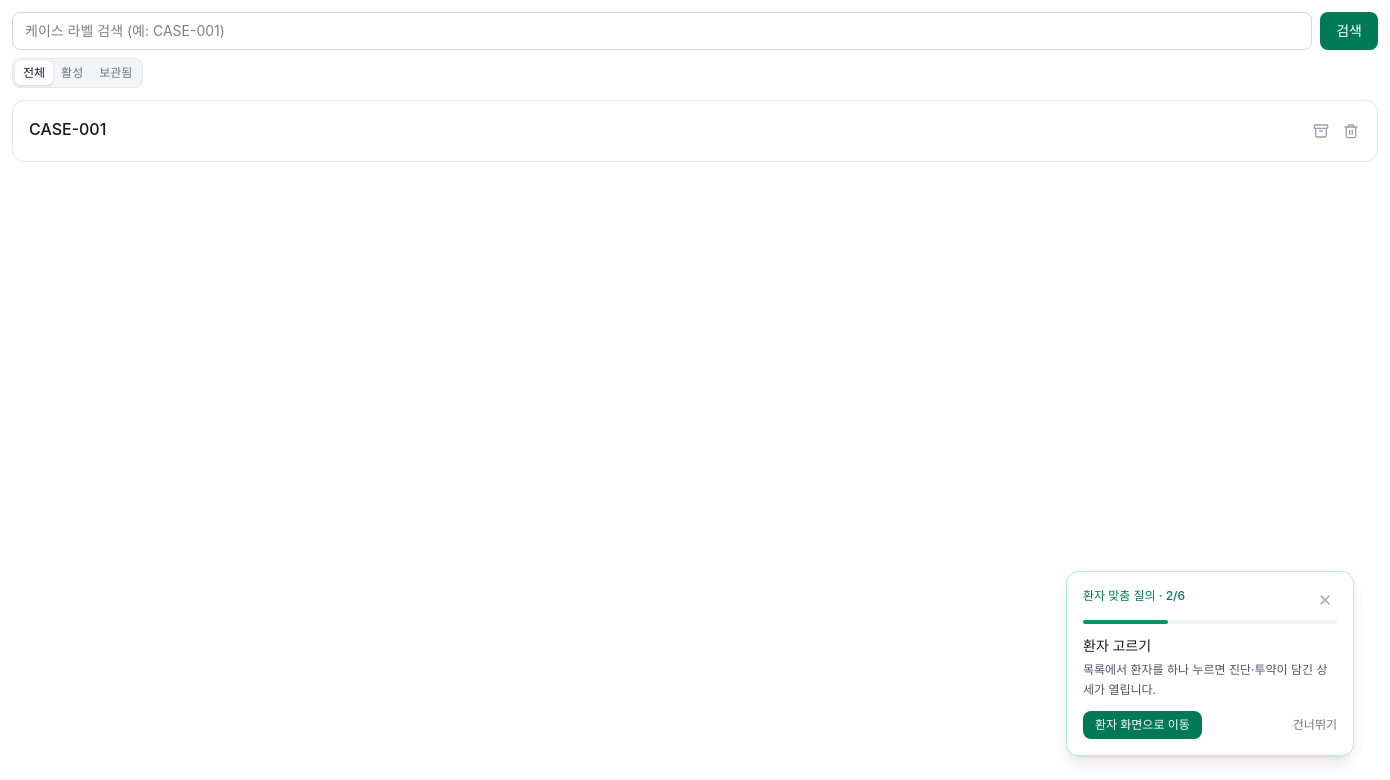
Test: 환자 목록이 환자 맞춤 경로의 단계를 넘긴다 › 환자를 고르면 맞춤 대화 시작 단계로 넘어간다
This screenshot has width=1390, height=780.
Click the button "CASE-001" at (68, 129), box x1=13 y1=101 x2=1307 y2=161
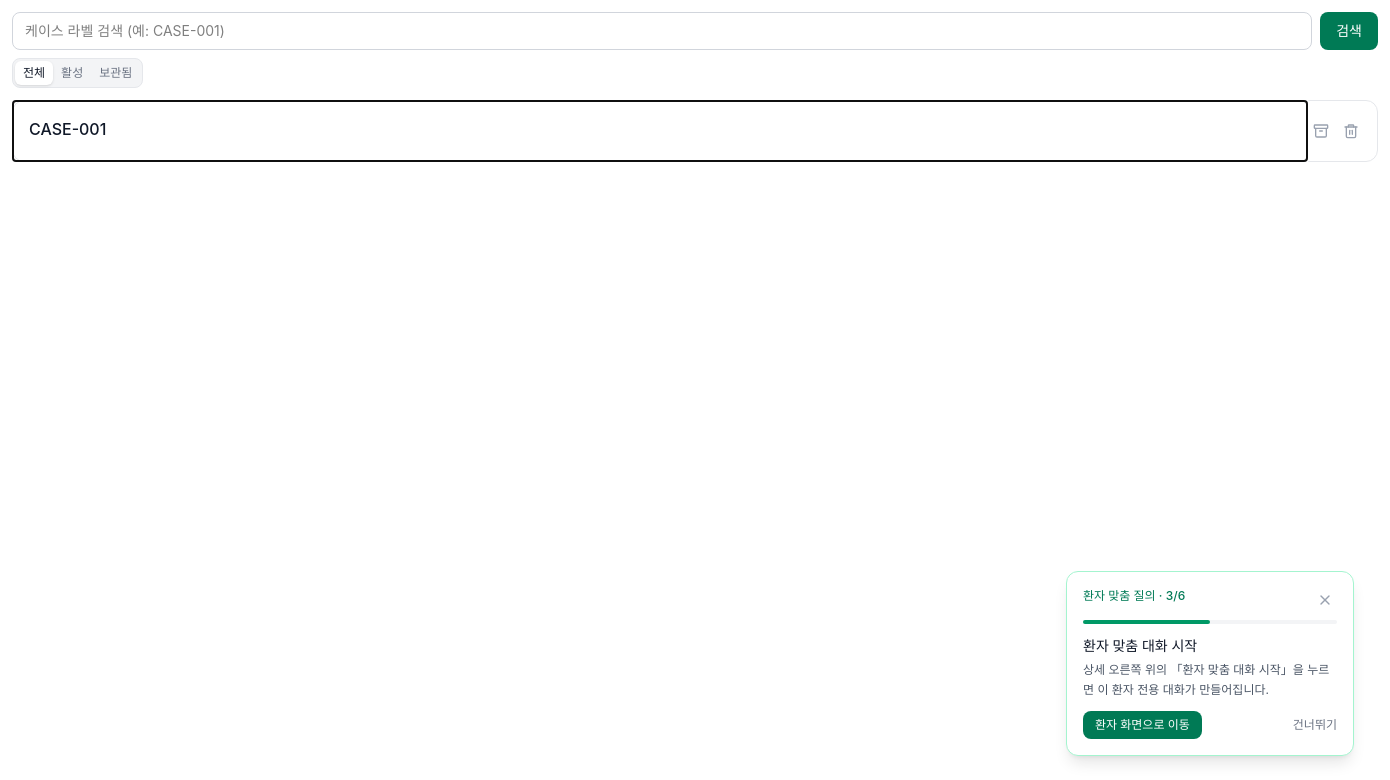
Expected: the text "환자 맞춤 대화 시작" is shown, x1=1083 y1=637 x2=1197 y2=654
